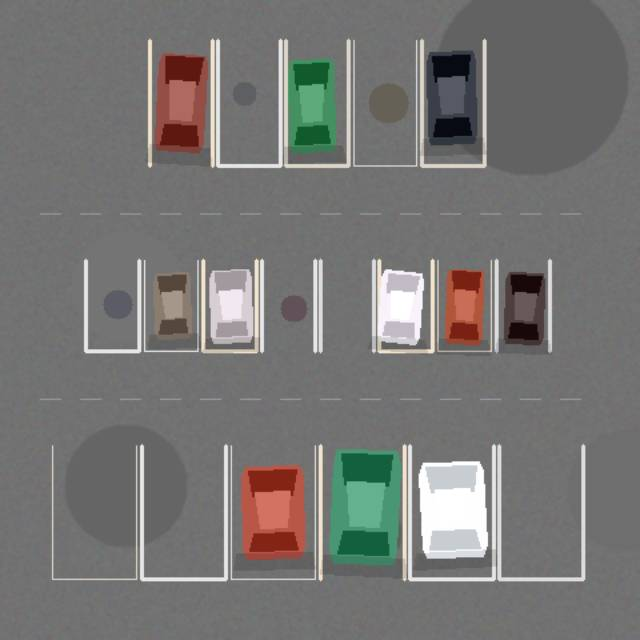space-empty: (52, 445, 136, 579), (141, 445, 225, 579), (499, 445, 583, 579), (217, 40, 280, 165), (353, 40, 416, 165), (85, 260, 139, 351), (261, 260, 315, 351), (320, 260, 373, 351)
space-occupied: (231, 445, 315, 579), (320, 445, 404, 579), (409, 445, 493, 579), (149, 40, 212, 165), (285, 40, 348, 165), (421, 40, 484, 165), (437, 260, 491, 351), (144, 260, 197, 351), (203, 260, 256, 351), (379, 260, 432, 351), (496, 260, 549, 351)
